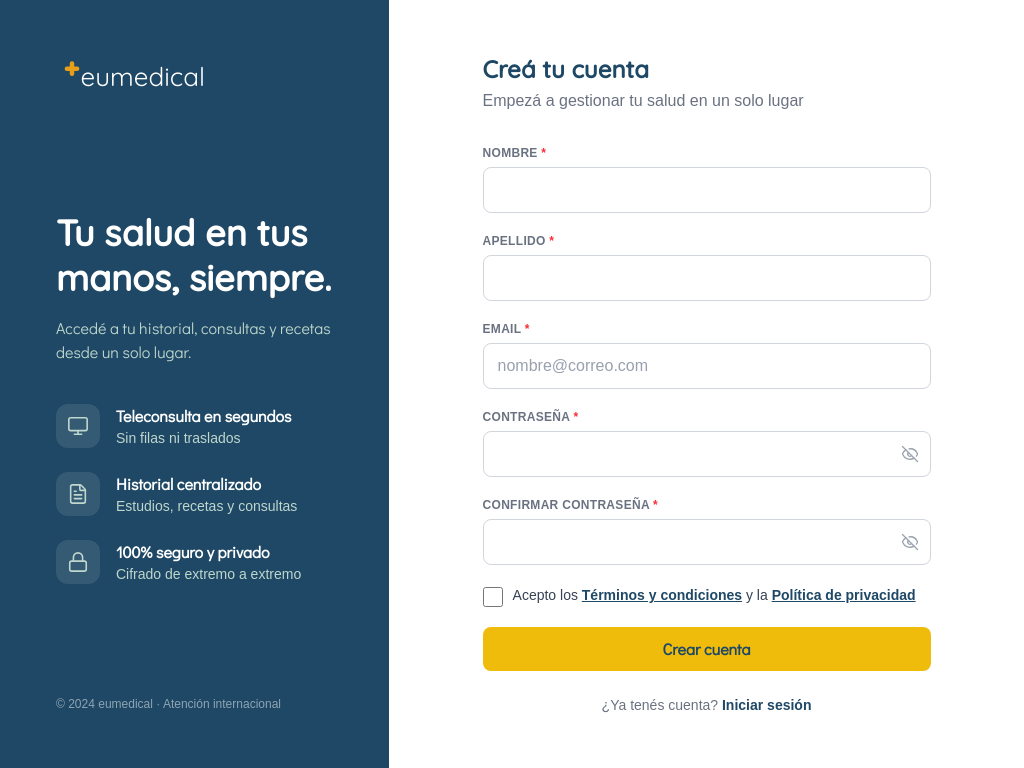
Test: RegisterPage › shows an error when the passwords do not match
The width and height of the screenshot is (1024, 768).
Type "María" into the field labelled "NOMBRE *" at (706, 190), box [482,167,930,213]
Type "González" into the field labelled "APELLIDO *" at (706, 278), box [482,255,930,301]
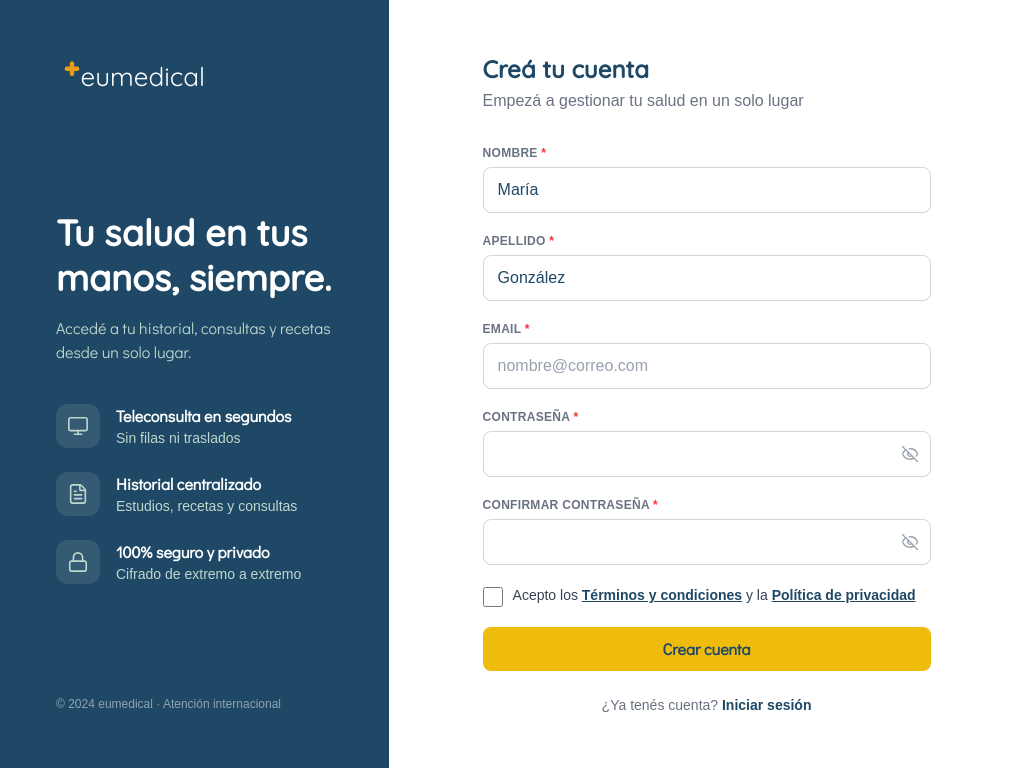
Type "maria@gmail.com" into the field labelled "EMAIL *" at (706, 366), box [482,343,930,389]
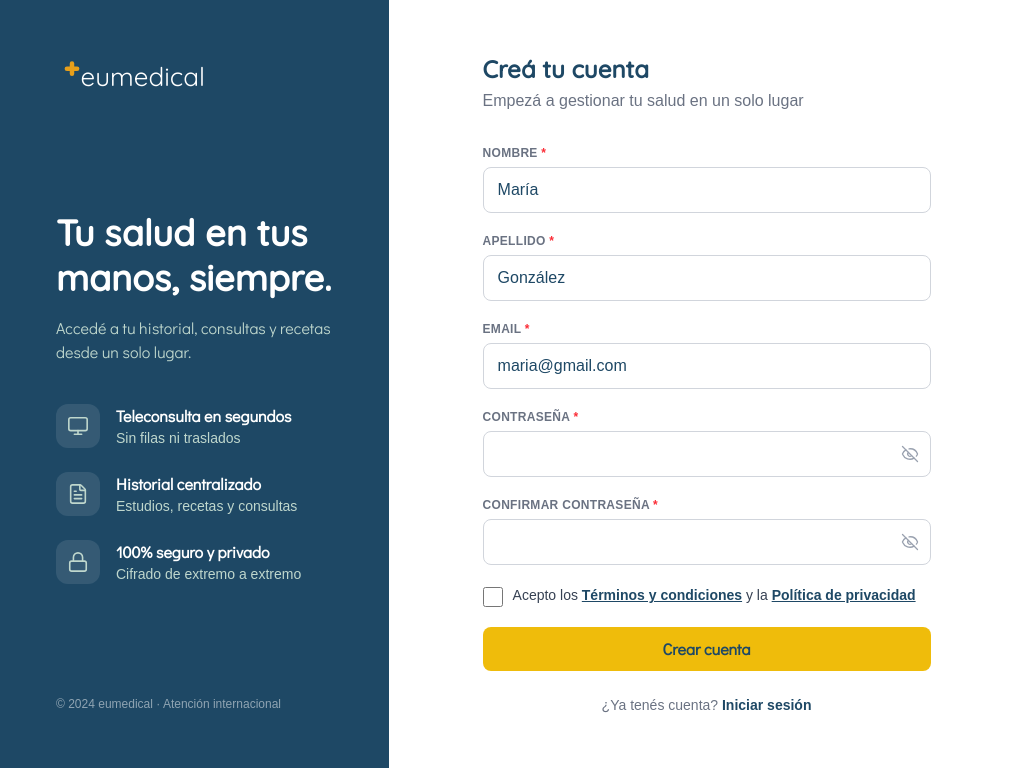
Type "secreta" into the password field labelled "CONTRASEÑA *" at (706, 454), box [482,431,930,477]
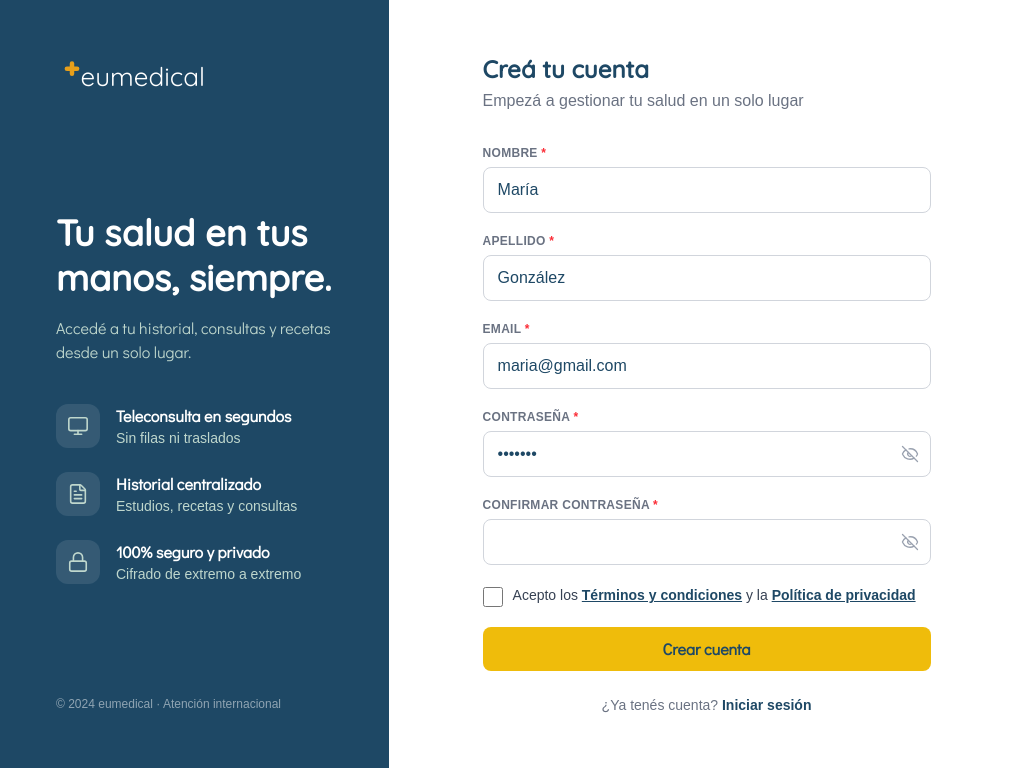
Type "otra-contraseña" into the password field labelled "CONFIRMAR CONTRASEÑA *" at (706, 542), box [482,519,930,565]
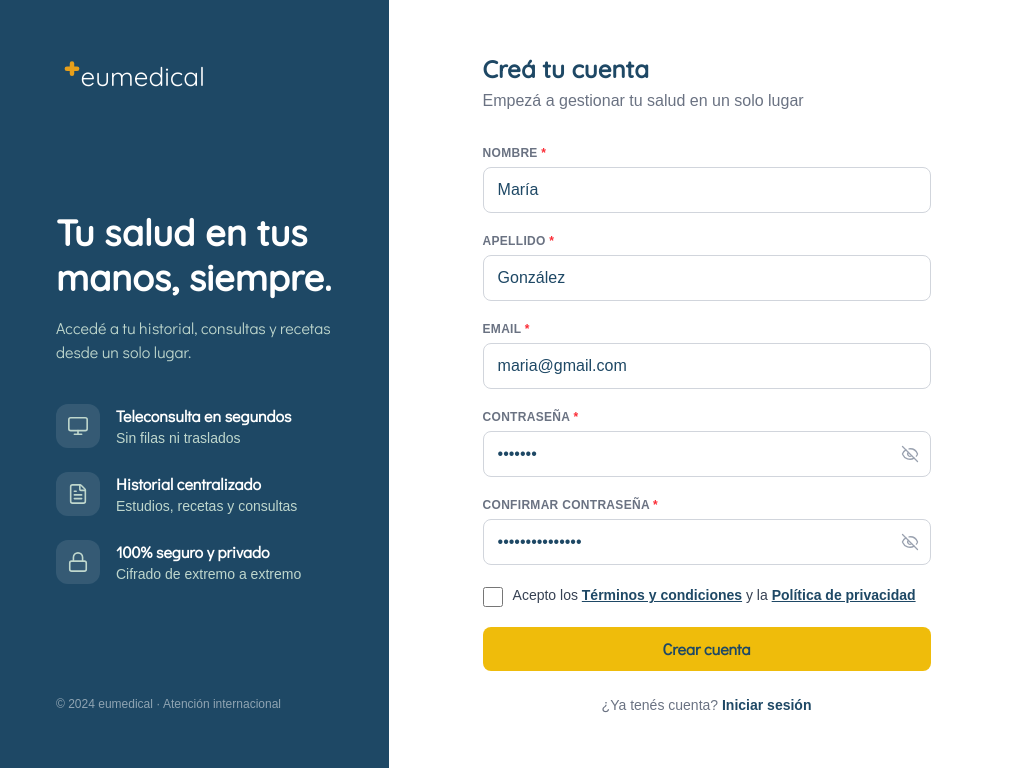
Click the checkbox at (492, 597), box [482,587,502,607]
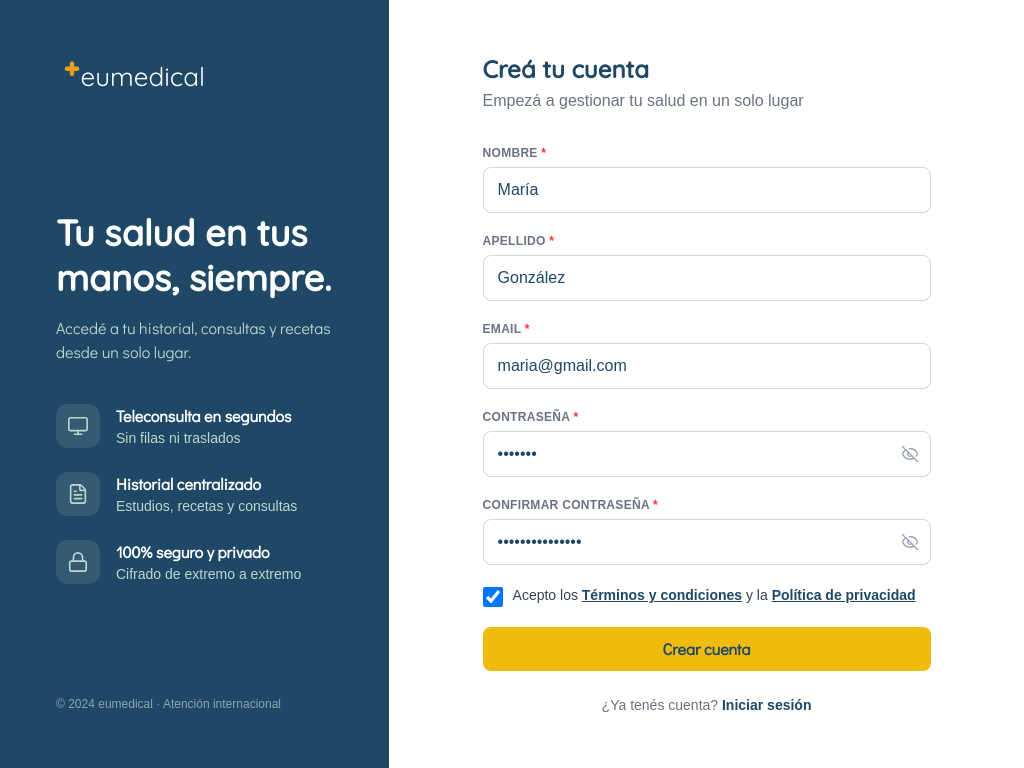
Click the button "Crear cuenta" at (706, 649), box [482,627,930,671]
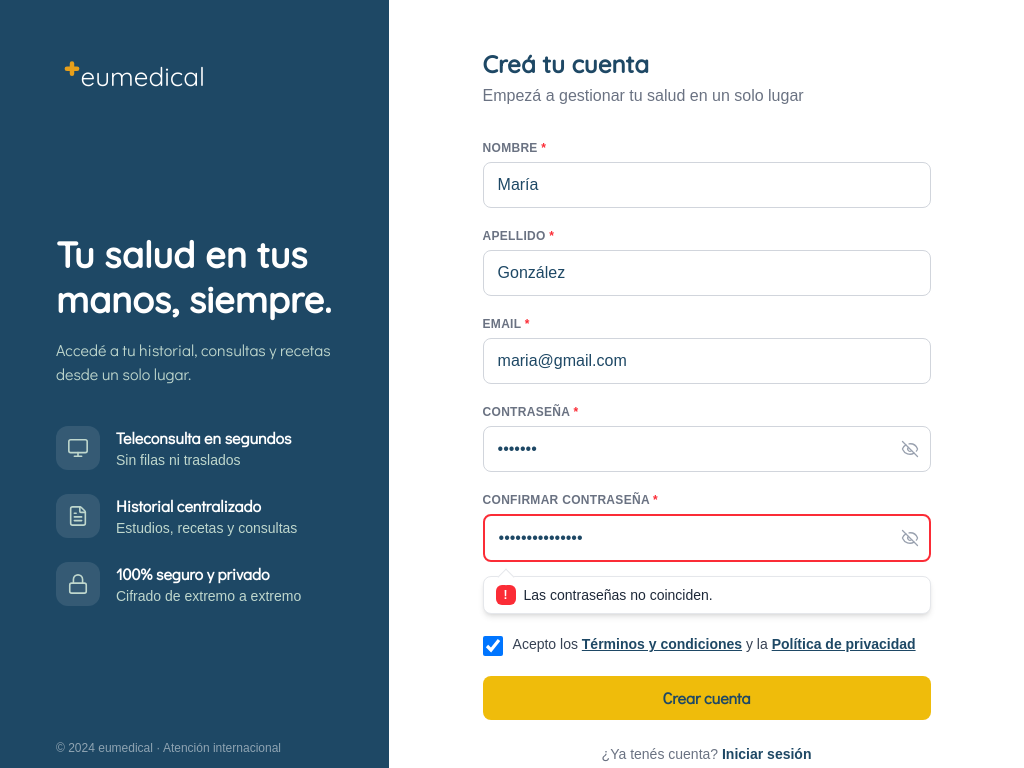
Expected: the text "Las contraseñas no coinciden." is shown, [524,585,713,605]
